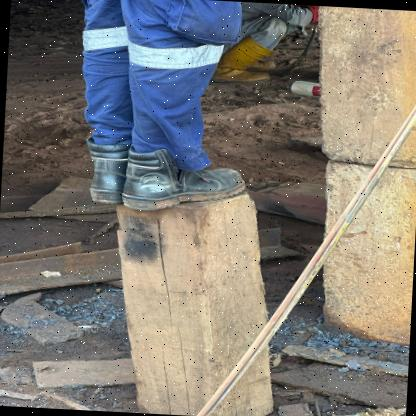bota: (118, 147, 248, 216), (84, 140, 130, 205)
